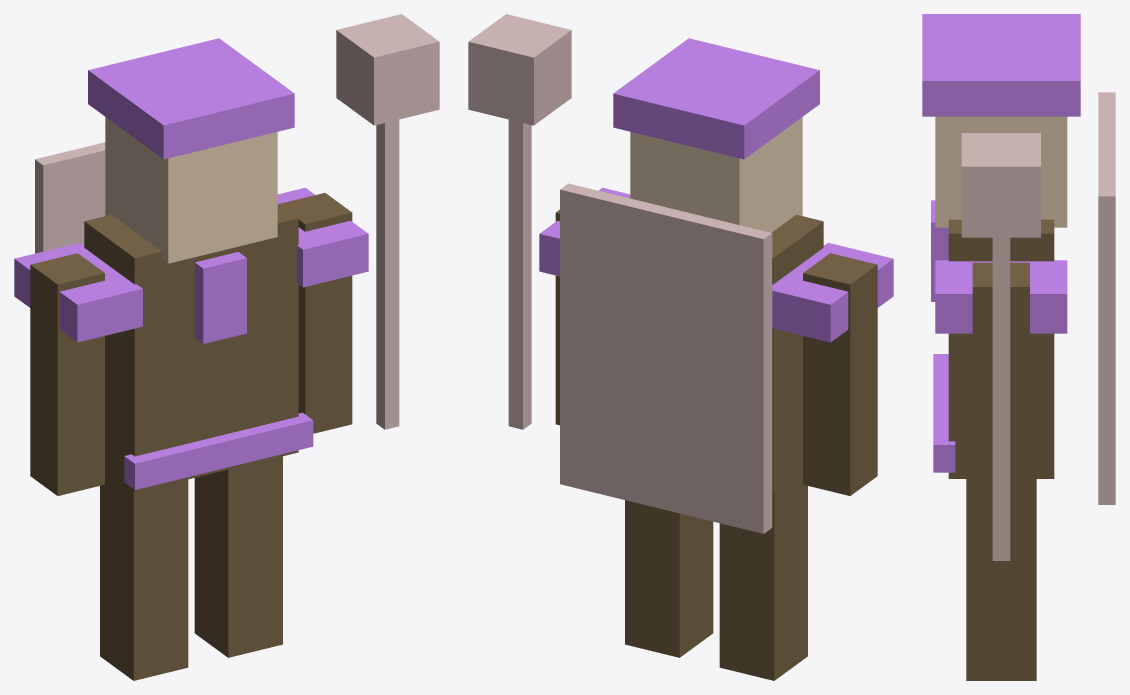
Rendered from 09_thorne_spirebound_scout_at.glb.
3 views of the same model, side by side, from view 1: azimuth 30°, elevation 25°; view 2: azimuth 150°, elevation 25°; view 3: azimuth 270°, elevation 25° (orthographic). The views are drawn at different scales.
Parts seen in each view (by area): view 1: Thorne Spirebound, Scout at; view 2: Thorne Spirebound, Scout at; view 3: Thorne Spirebound, Scout at.
Part boxes in pixels (x1,y1,x2,y2): Thorne Spirebound, Scout at: (14,14,439,680); Thorne Spirebound, Scout at: (468,14,893,680); Thorne Spirebound, Scout at: (922,14,1115,680).
Size of the model in its own units: 1.12 by 1.62 by 0.4763.
